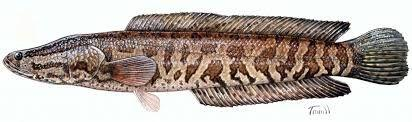Snakehead: (4, 11, 410, 112)
